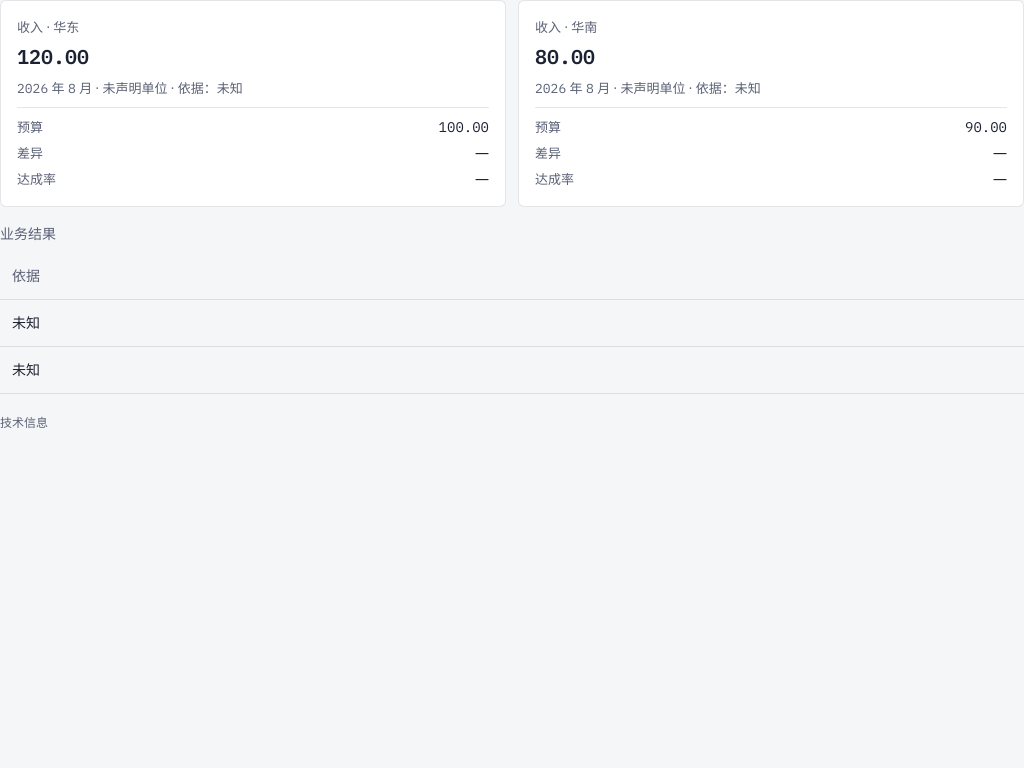
Test case: a figure pinned from a result › offers 钉到看板 from a KPI card's source and pins the KPI there
The image size is (1024, 768).
Click the button "120.00": (53, 57) [17,43,89,71]
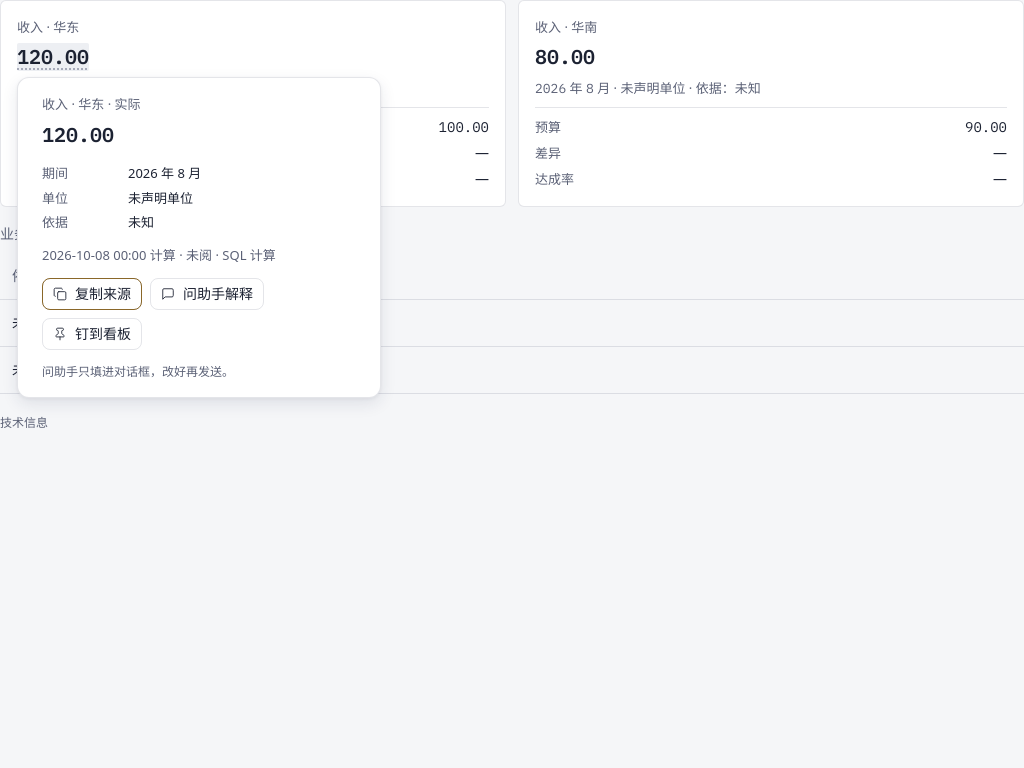
Click the button "钉到看板": (92, 334) [42,318,142,350]
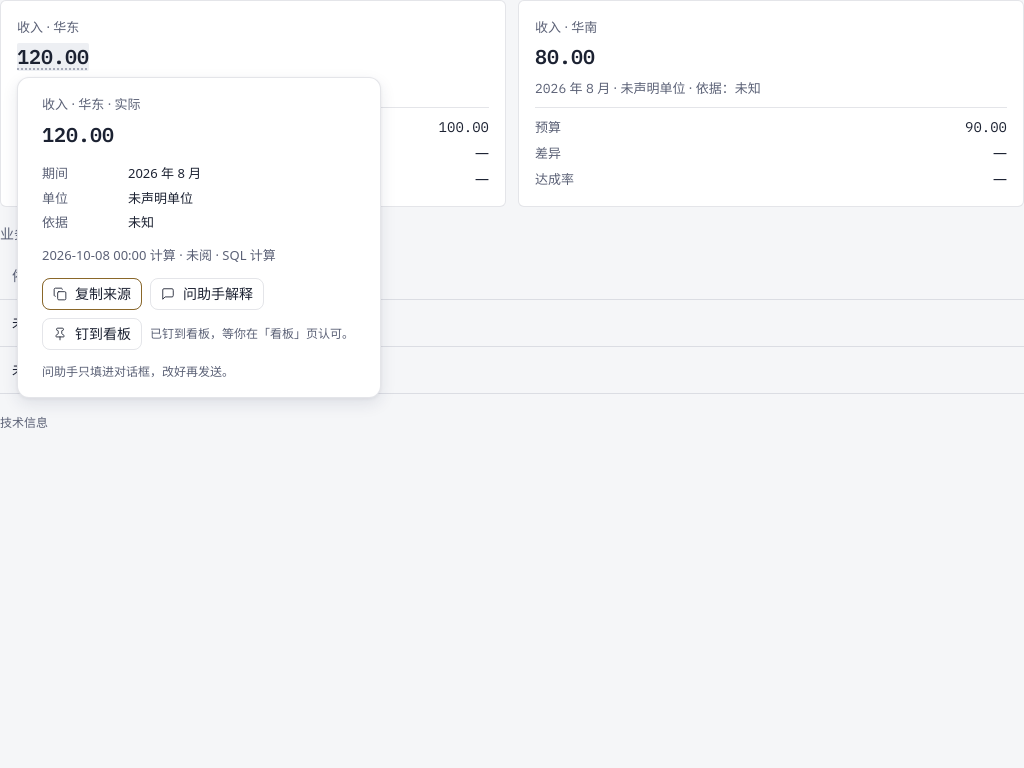
Now the text "已钉到看板，等你在「看板」页认可。" is shown, box [150,324,354,344]
